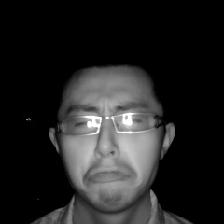sad: (41, 62, 181, 211)
